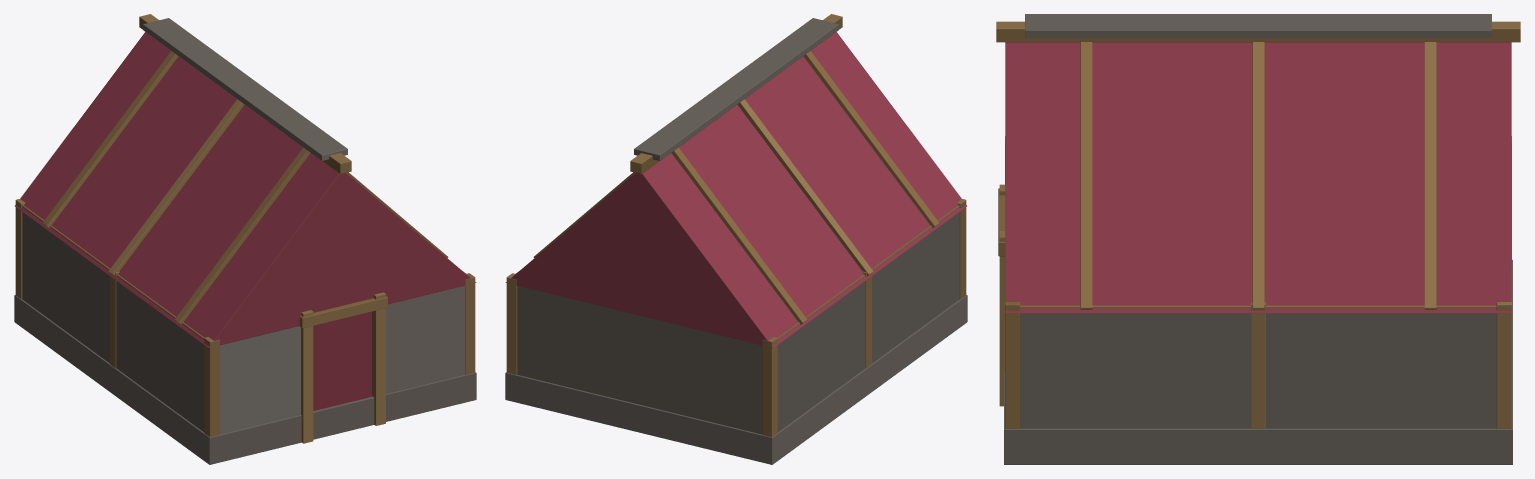
Rendered from House_Paleo_b.fbx.
3 views of the same model, side by side, from view 1: azimuth 30°, elevation 25°; view 2: azimuth 150°, elevation 25°; view 3: azimuth 270°, elevation 25° (orthographic). The views are drawn at different scales.
Visible parts, largest first — view 1: House_Paleo_b; view 2: House_Paleo_b; view 3: House_Paleo_b.
Boxes of the visible parts, bbox=[...] form: House_Paleo_b: bbox=[14, 14, 476, 464]; House_Paleo_b: bbox=[505, 14, 967, 464]; House_Paleo_b: bbox=[996, 14, 1520, 464].
Size of what is drawn, in the model's own units: 3.72 by 3.62 by 4.8.
